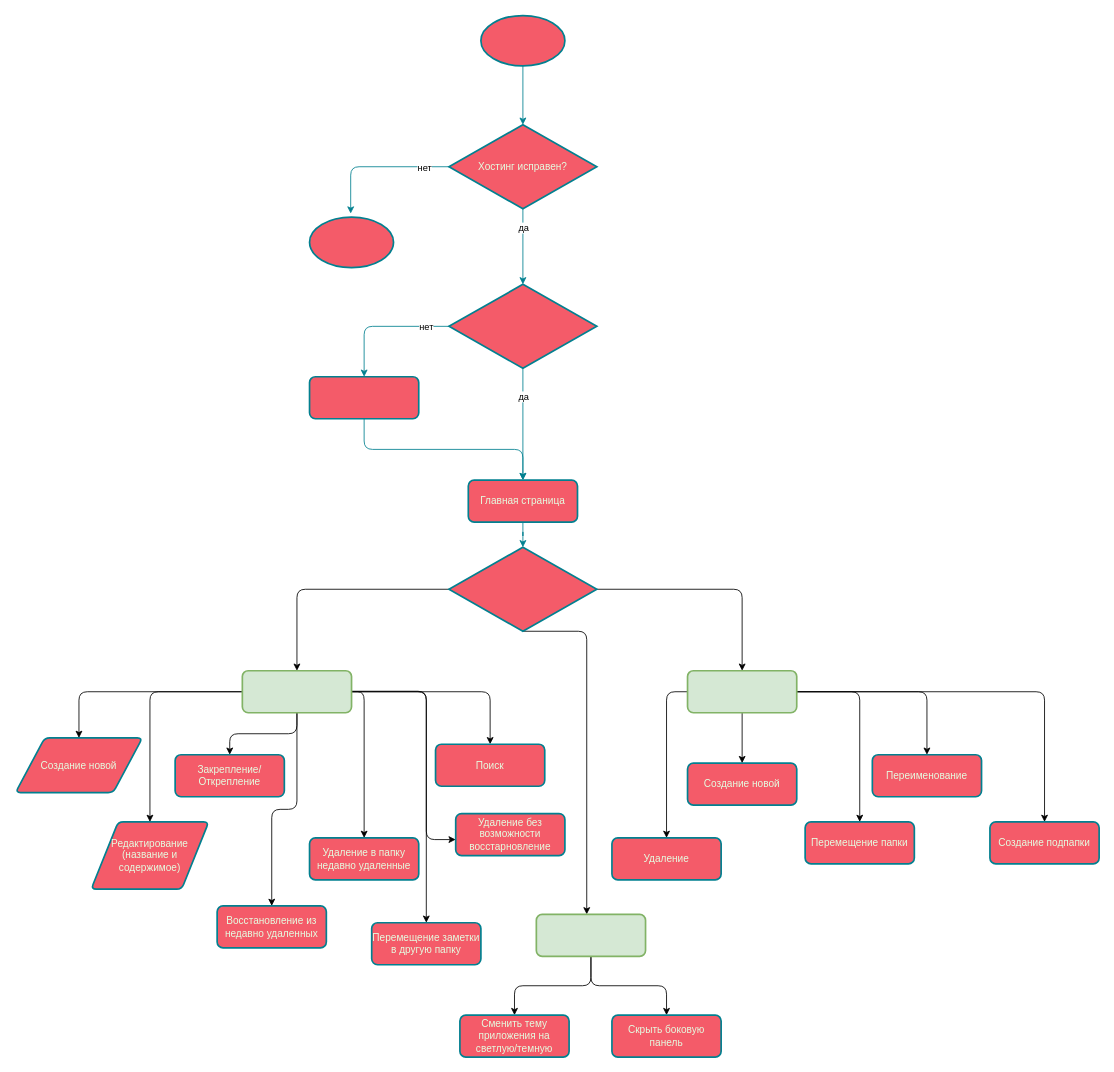
Image size: 1114x1072. Some labels were removed from this diagram. The shapes that lost their labels are listed below. From the top down, each one's centre as x and y in pixels, then its label:
At point (522, 40): "Начало".
At point (351, 242): "Завершение".
At point (522, 326): "Пользователь вошел в аккаунт?".
At point (363, 397): "Регистрация/вход через Google аккаунт".
At point (522, 589): "Выбор дейстия".
At point (296, 691): "Заметки".
At point (741, 691): "Папки".
At point (590, 935): "Настройки".
